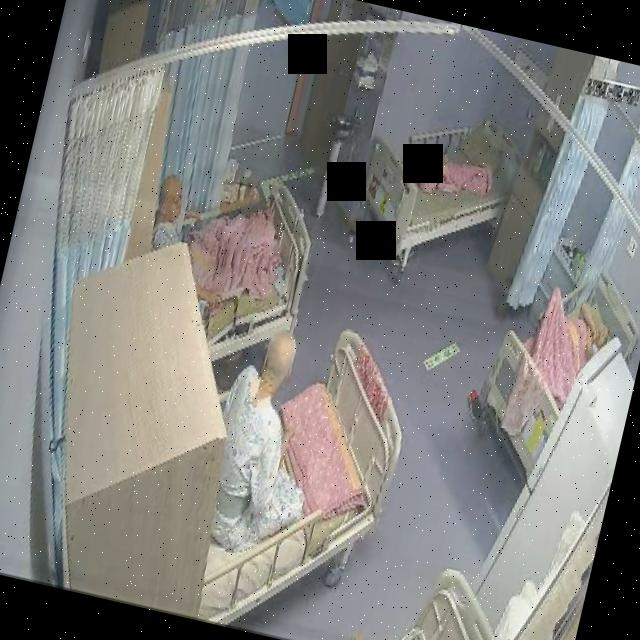bed: (163, 307, 423, 640), (465, 251, 640, 492), (151, 168, 321, 376), (353, 92, 527, 278)
lie: (534, 282, 619, 364)
patient: (187, 318, 328, 564), (135, 170, 244, 314), (564, 294, 618, 364)
sit: (187, 318, 326, 562), (136, 168, 300, 328)
